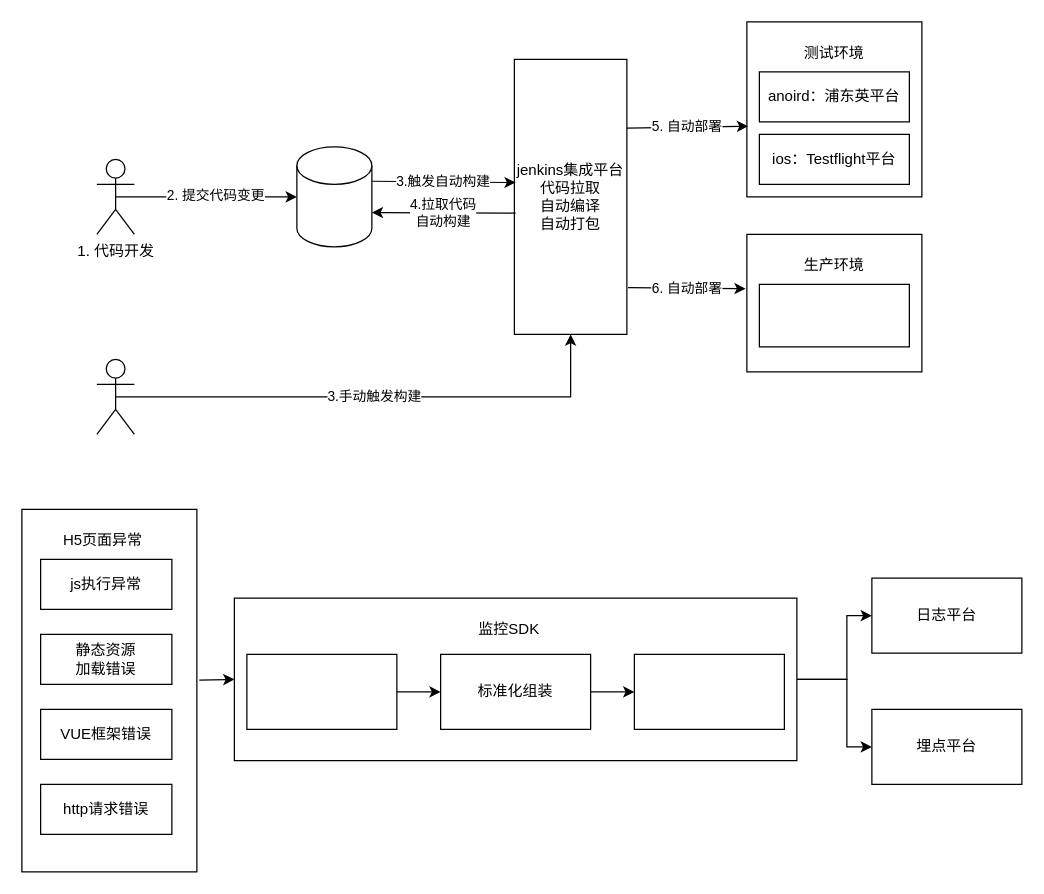
Some shapes in this 1044 by 894 pixel diagram are drawn without their labels. The shapes that lost their labels are listed below. From the top down, each one's centre as x and y in pixels, then its label:
At point (334, 196): "代码仓库".
At point (833, 315): "阿里OSS".
At point (115, 396): "Jenkins管理员".
At point (321, 691): "数据采集".
At point (708, 691): "智能上送".
